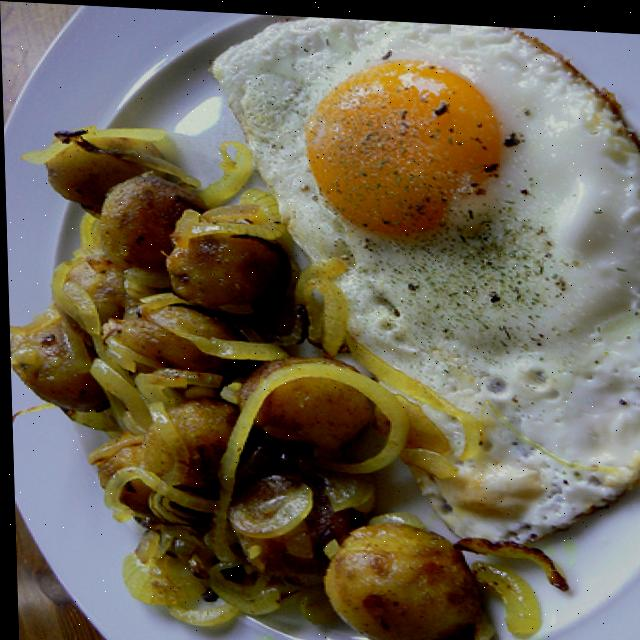鸡蛋料理: (179, 7, 640, 567)
